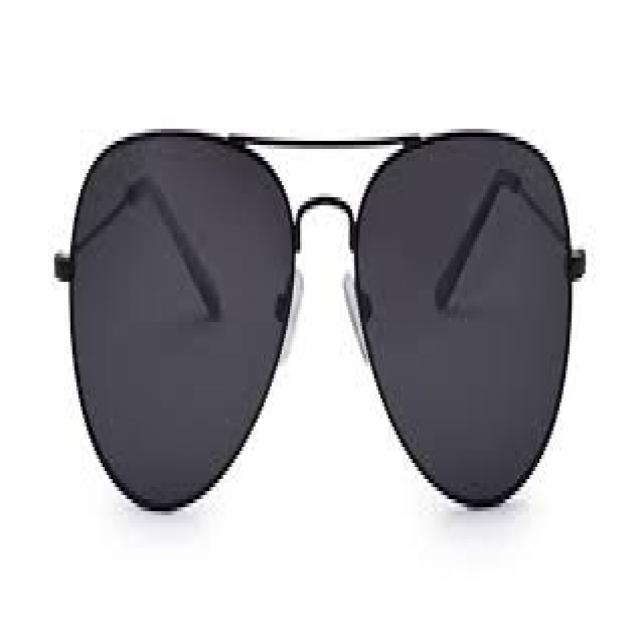suspicious-objects: (59, 119, 587, 517)
